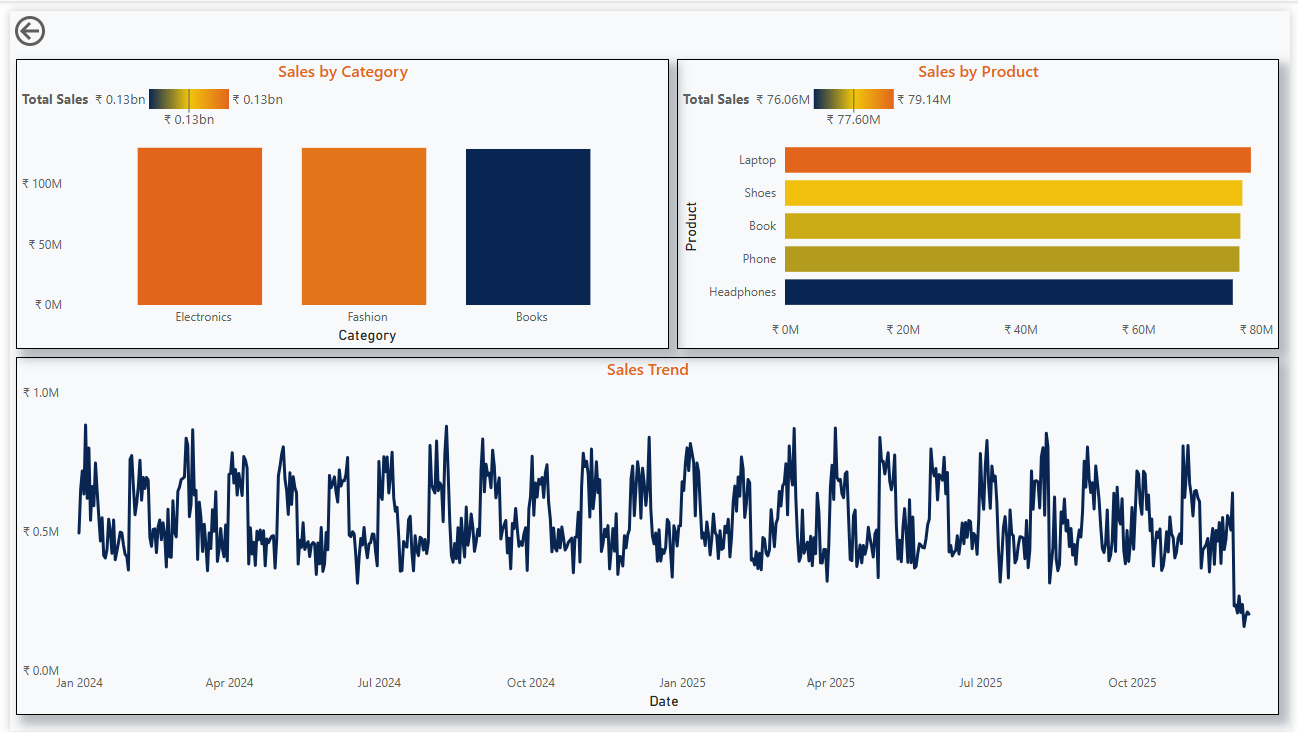

The page's visual inventory and layout, read from the dashboard file:
{"tool":"powerbi","page":{"name":"Sales Analysis","canvas":[1280,720],"ordinal":1},"visuals":[{"type":"barChart","title":"Sales by Product","fields":{"Y":["All Measures.Total Sales"],"Category":["ShopEase.Product"]},"box":[666.8,47.9,602.1,290],"z":0},{"type":"actionButton","box":[0,0,47.9,39.9],"z":3000},{"type":"columnChart","title":"Sales by Category","fields":{"Category":["ShopEase.Category"],"Y":["All Measures.Total Sales"]},"box":[6.2,47.9,652.6,290],"z":4000},{"type":"actionButton","box":[0,0,47.9,39.9],"z":5000},{"type":"actionButton","box":[0,0,40.8,39.9],"z":6000},{"type":"lineChart","title":"Sales Trend","fields":{"Y":["All Measures.Total Sales"],"Category":["Date Model.Date"]},"box":[6.2,345.8,1262.7,358.2],"z":7000}]}

Visuals, with their boxes in screenshot pixels (x1, y1, x2, y2), scaled from the page's 1280x720 canvas onto the 1298x732 screenshot:
"Sales by Product" barChart: pyautogui.locateOnScreen(676, 49, 1287, 344)
actionButton: pyautogui.locateOnScreen(0, 0, 49, 41)
"Sales by Category" columnChart: pyautogui.locateOnScreen(6, 49, 668, 344)
actionButton: pyautogui.locateOnScreen(0, 0, 49, 41)
actionButton: pyautogui.locateOnScreen(0, 0, 41, 41)
"Sales Trend" lineChart: pyautogui.locateOnScreen(6, 352, 1287, 716)
